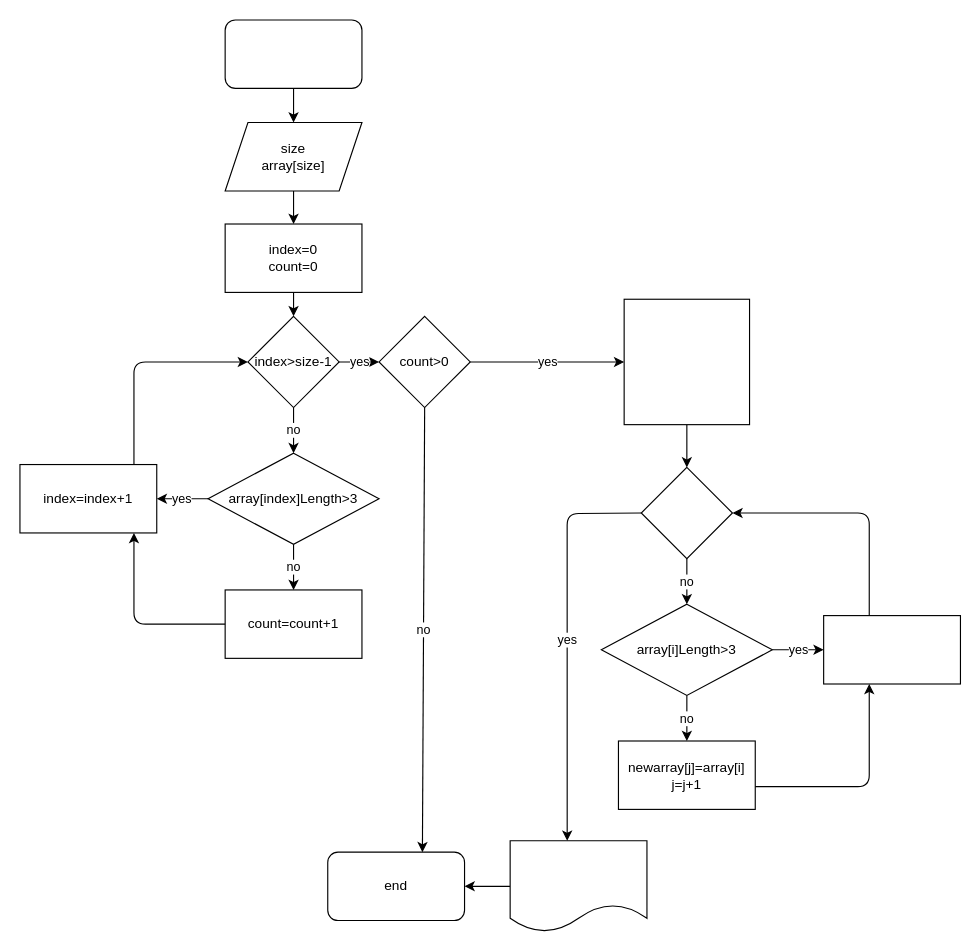
Image size: 980x952. Some labels were removed from this diagram. Here are the shapes that lost their labels. From the top down, the box of each, then its label:
(224, 19, 362, 88): start
(623, 298, 750, 425): newarray[count] i=0 j=0
(640, 466, 732, 559): i>size-1
(823, 614, 960, 684): i=i+1
(509, 840, 647, 932): newarray
